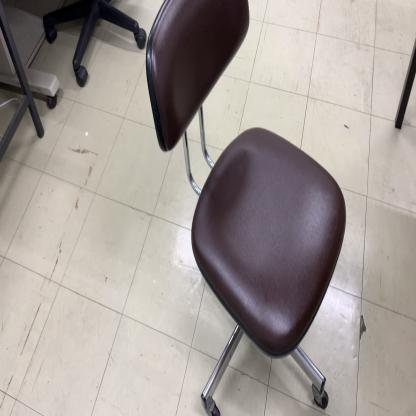chair: (145, 1, 347, 416)
